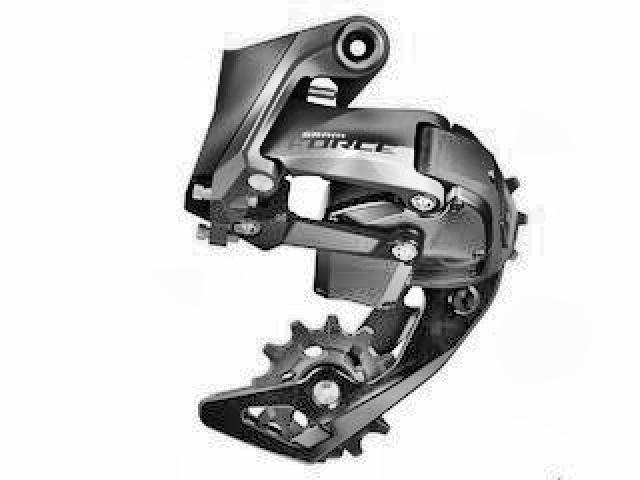rear_derailleur: (183, 12, 527, 469)
